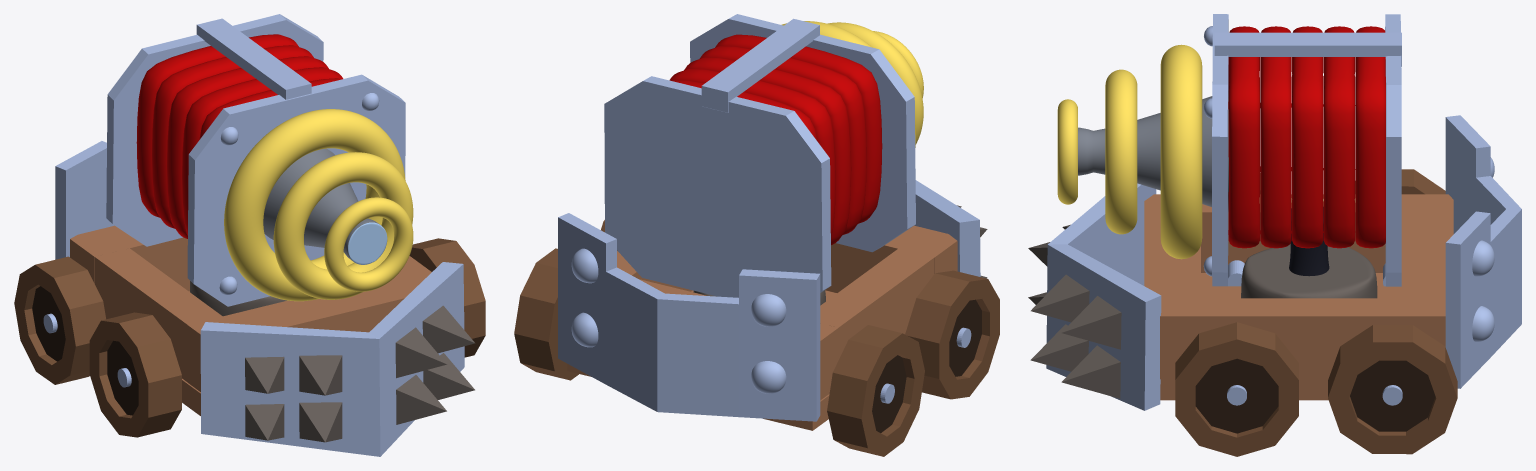
File: shadow_knight.glb
3 renders of one model, left to right at view 1: azimuth 30°, elevation 25°; view 2: azimuth 150°, elevation 25°; view 3: azimuth 270°, elevation 25°, orthographic. The views are drawn at different scales.
Parts seen in each view (by area): view 1: Plano_8, Plano.001_9, Cilindro_4, Object_65, Rosca_1, Cilindro.013_14, Cilindro.002_5, Cilindro.014_17, Rosca.001_2, Cilindro.007_6, Plano.003_20, Rosca.002_3 (+3 smaller); view 2: Cilindro.002_5, Plano.003_20, Object_65, Plano.001_9, Cilindro_4, Cilindro.014_17, Cilindro.013_14, Cilindro.011_12, Cubo_7, Plano_8, Rosca.001_2, Cubo.002_22 (+5 smaller); view 3: Object_65, Plano.001_9, Plano_8, Plano.003_20, Cilindro.011_12, Cilindro.008_10, Rosca_1, object 18, Rosca.001_2, Cubo_7, Cilindro_4, Cilindro.007_6 (+6 smaller).
Part boxes in pixels (<box>): Plano_8: <box>200,262,474,456</box>; Plano.001_9: <box>70,225,431,415</box>; Cilindro_4: <box>187,74,405,306</box>; Object_65: <box>136,34,343,238</box>; Rosca_1: <box>224,109,405,301</box>; Cilindro.013_14: <box>89,312,181,437</box>; Cilindro.002_5: <box>106,14,323,246</box>; Cilindro.014_17: <box>14,256,105,384</box>; Rosca.001_2: <box>273,152,413,299</box>; Cilindro.007_6: <box>263,148,387,264</box>; Plano.003_20: <box>55,141,114,259</box>; Rosca.002_3: <box>324,197,413,291</box>; Cilindro.002_5: <box>604,76,831,297</box>; Plano.003_20: <box>558,213,820,421</box>; Object_65: <box>669,34,882,244</box>; Plano.001_9: <box>567,225,957,430</box>; Cilindro_4: <box>690,14,915,252</box>; Cilindro.014_17: <box>827,325,924,456</box>; Cilindro.013_14: <box>905,270,999,399</box>; Cilindro.011_12: <box>514,248,578,380</box>; Cubo_7: <box>701,18,819,112</box>; Plano_8: <box>914,180,987,278</box>; Rosca.001_2: <box>828,22,923,144</box>; Cubo.002_22: <box>751,294,786,326</box>; Object_65: <box>1228,26,1385,248</box>; Plano.001_9: <box>1144,194,1453,400</box>; Plano_8: <box>1028,183,1161,410</box>; Plano.003_20: <box>1445,115,1521,388</box>; Cilindro.011_12: <box>1328,325,1457,454</box>; Cilindro.008_10: <box>1175,322,1298,456</box>; Rosca_1: <box>1160,44,1202,259</box>; object 18: <box>1241,244,1377,298</box>; Rosca.001_2: <box>1105,69,1137,234</box>; Cubo_7: <box>1214,32,1401,66</box>; Cilindro_4: <box>1203,14,1228,286</box>; Cilindro.007_6: <box>1078,91,1228,212</box>.
Bounding box in the file's own units: 4.72 × 4.21 × 5.69.
29 materials, 1 textured.
